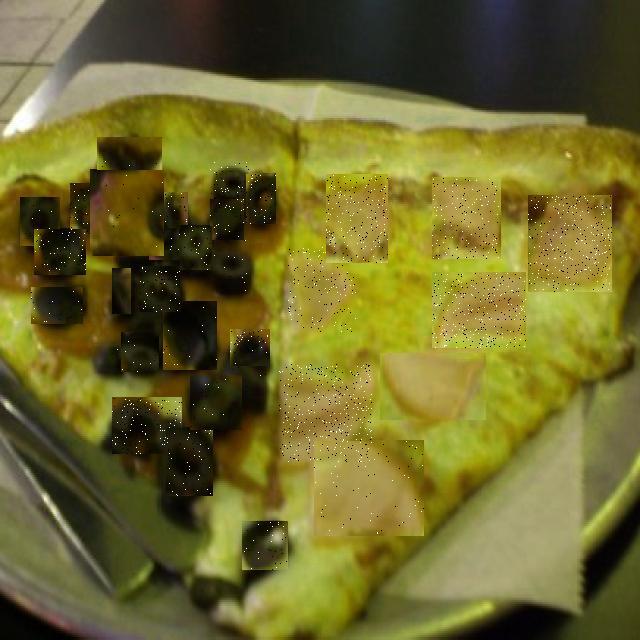Ham: (314, 441, 424, 536), (279, 364, 372, 462), (528, 196, 612, 292), (432, 273, 526, 348), (381, 354, 486, 420), (288, 246, 356, 332), (432, 178, 501, 259), (326, 175, 388, 263)
Olives: (112, 398, 182, 454), (163, 302, 217, 370), (166, 428, 213, 496), (98, 138, 164, 182), (190, 376, 242, 430), (219, 354, 269, 406), (34, 229, 86, 275), (242, 522, 288, 570), (213, 238, 250, 294), (20, 198, 60, 246), (31, 288, 83, 324), (70, 184, 106, 235), (140, 267, 180, 312), (210, 162, 250, 200), (246, 174, 276, 224), (121, 333, 159, 372), (230, 330, 270, 367), (180, 226, 212, 270), (210, 199, 244, 240), (150, 229, 183, 260), (162, 194, 188, 232), (93, 344, 123, 374), (112, 270, 131, 316)
Pepperoni: (90, 170, 164, 256)
Pizza: (0, 95, 640, 639)
